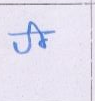i_matra: (30, 21, 49, 48)
